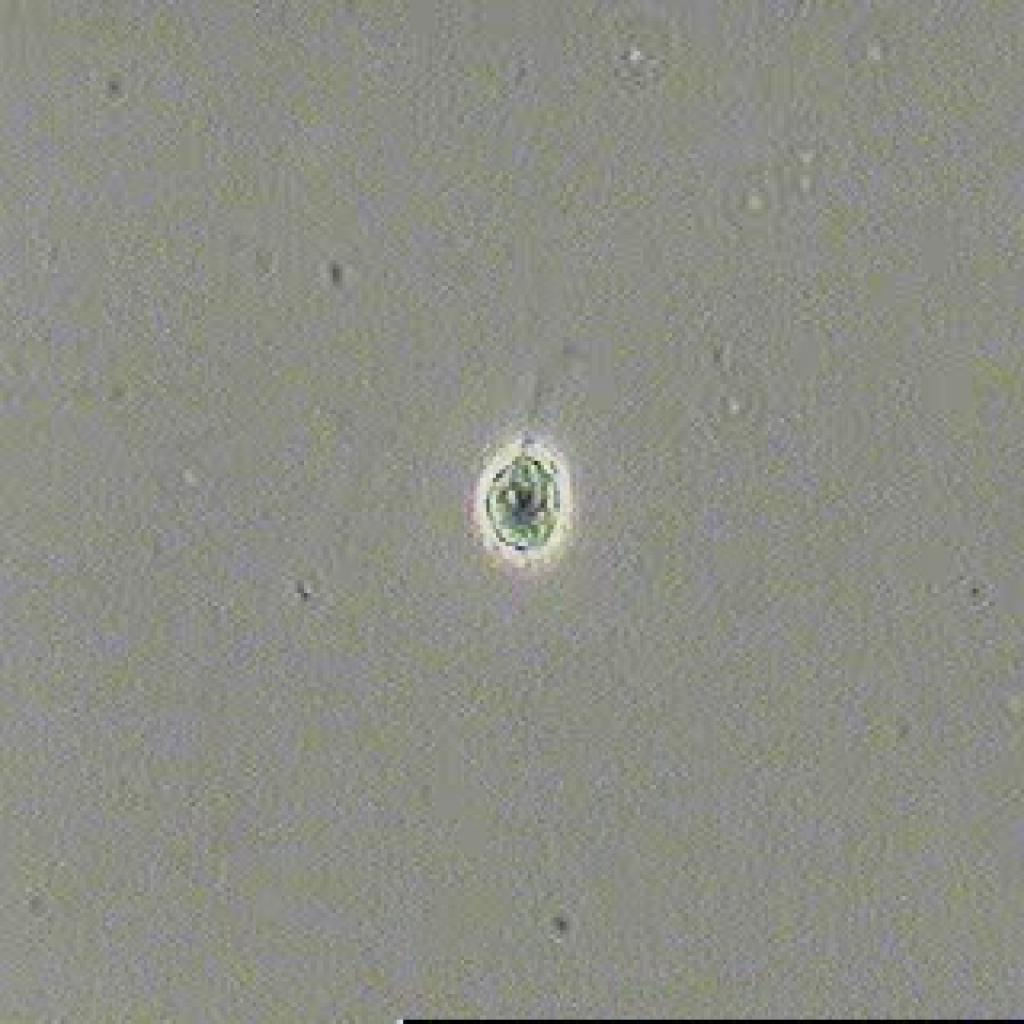Flagellates: (478, 335, 604, 608)
